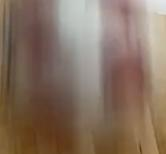Sports-Ball: (19, 8, 148, 121)
